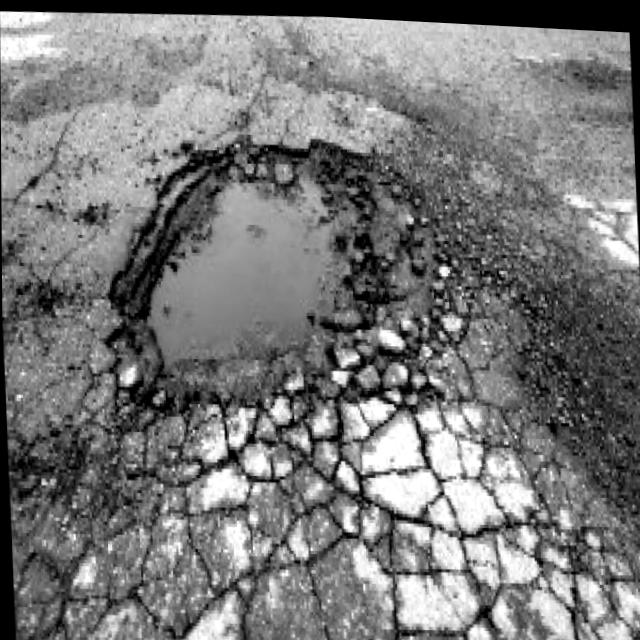pathole: (93, 99, 495, 516)
